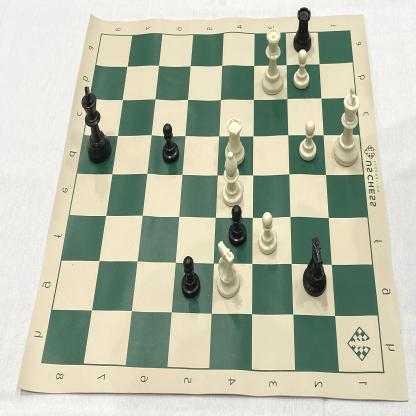black-king: (78, 83, 113, 167)
black-knight: (300, 233, 335, 300)
black-pawn: (331, 82, 365, 170), (178, 253, 202, 301), (226, 199, 249, 248), (160, 121, 182, 167)
black-rook: (290, 2, 314, 56)
white-bishop: (220, 149, 245, 210)
white-knight: (211, 239, 242, 300)
white-pawn: (256, 207, 279, 260), (296, 116, 321, 164), (290, 48, 311, 92)
white-queen: (258, 24, 286, 98)
white-rook: (221, 112, 248, 169)
